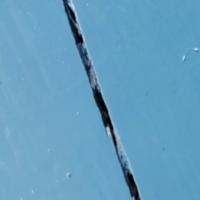crack: (52, 0, 179, 199)
